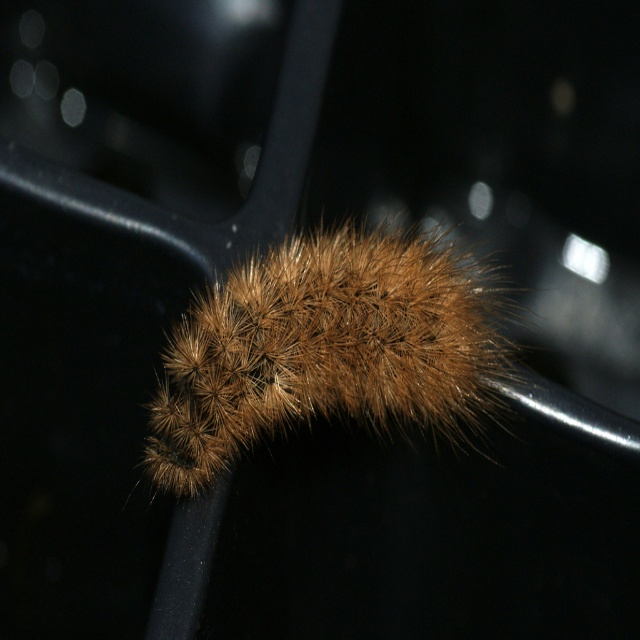Caterpillar: (124, 203, 554, 510)
